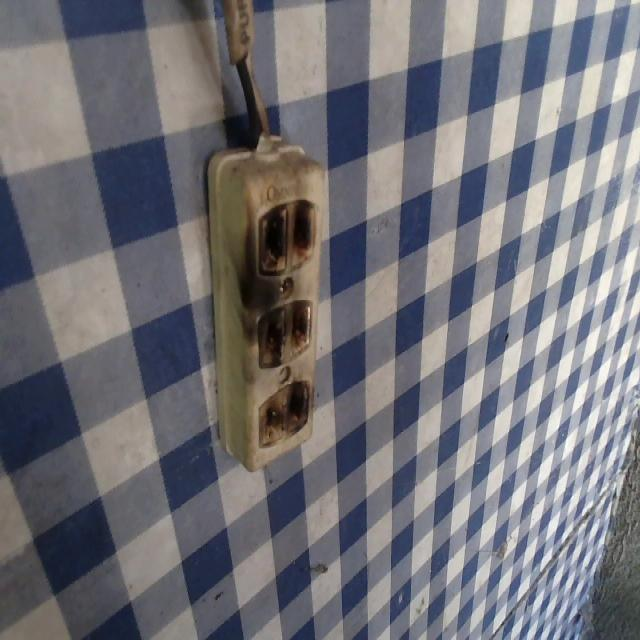-: (253, 197, 319, 276), (255, 293, 314, 372), (254, 376, 313, 448)
